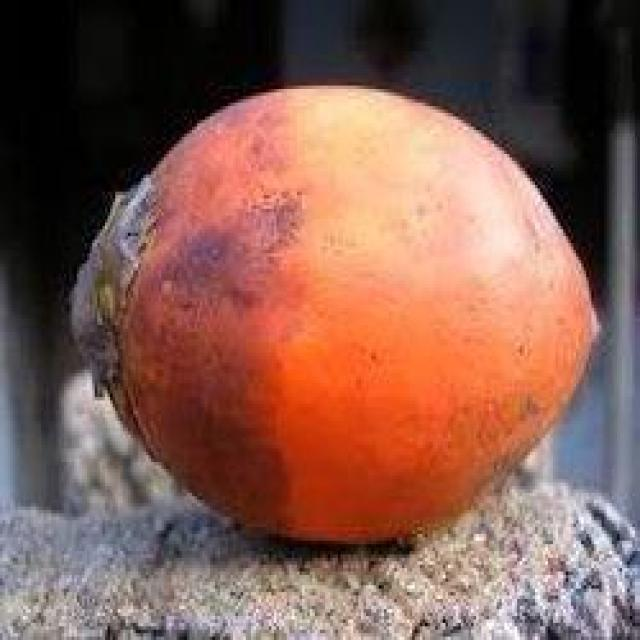good: (72, 82, 602, 551)
